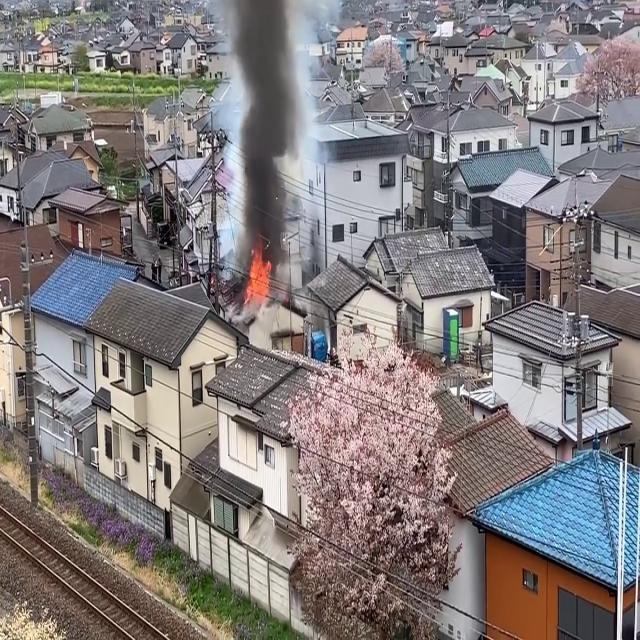Fire: (243, 244, 274, 308)
Smoke: (224, 0, 320, 273)
